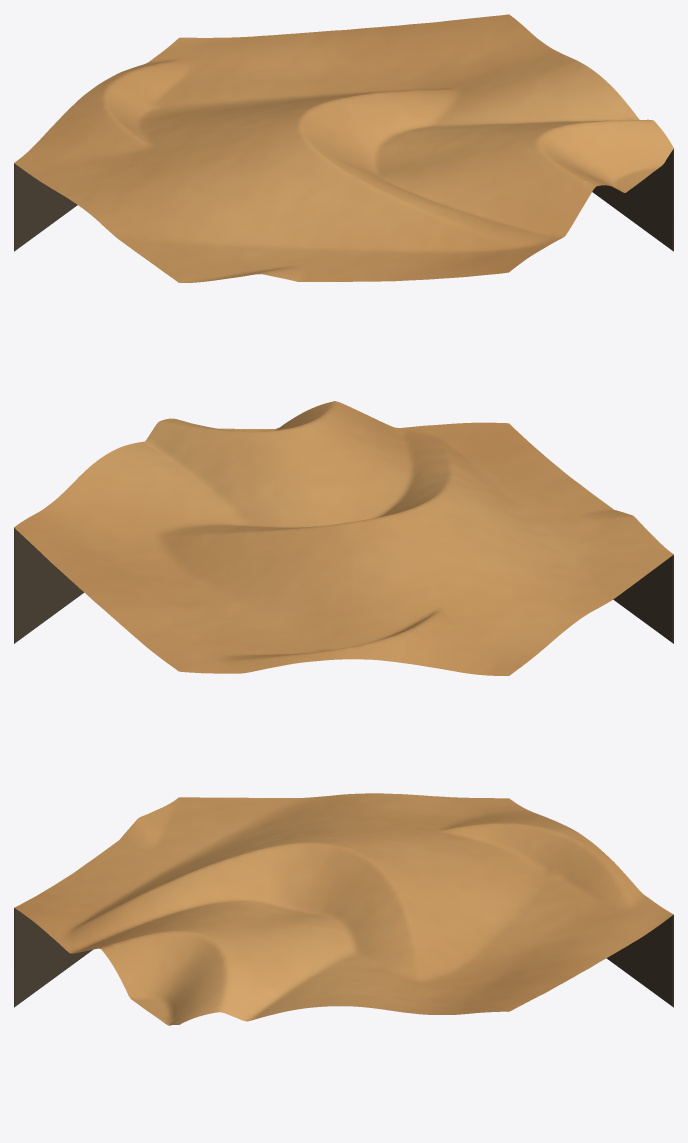
3 renders of one model, top to bottom at view 1: azimuth 30°, elevation 25°; view 2: azimuth 150°, elevation 25°; view 3: azimuth 270°, elevation 25°, orthographic.
Parts seen in each view (by area): view 1: terrain, hex_side_cut; view 2: terrain, hex_side_cut; view 3: terrain, hex_side_cut.
Part boxes in pixels (<box>): terrain: <box>14,14,673,282</box>; hex_side_cut: <box>14,149,673,251</box>; terrain: <box>14,401,673,675</box>; hex_side_cut: <box>14,528,673,643</box>; terrain: <box>14,793,673,1025</box>; hex_side_cut: <box>14,908,673,1007</box>.
Size of the model in its own units: 4330 by 1162 by 5000.
